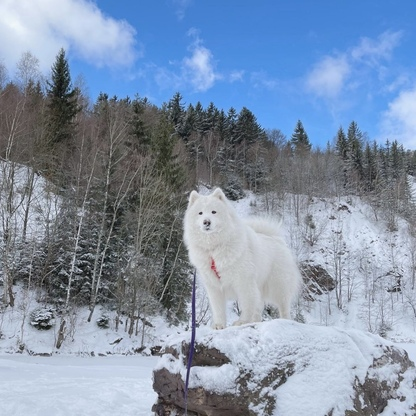samoyed: (180, 184, 304, 330)
